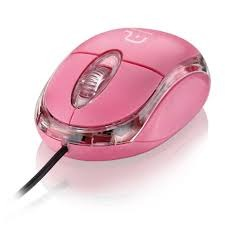mouse: (34, 25, 214, 164)
